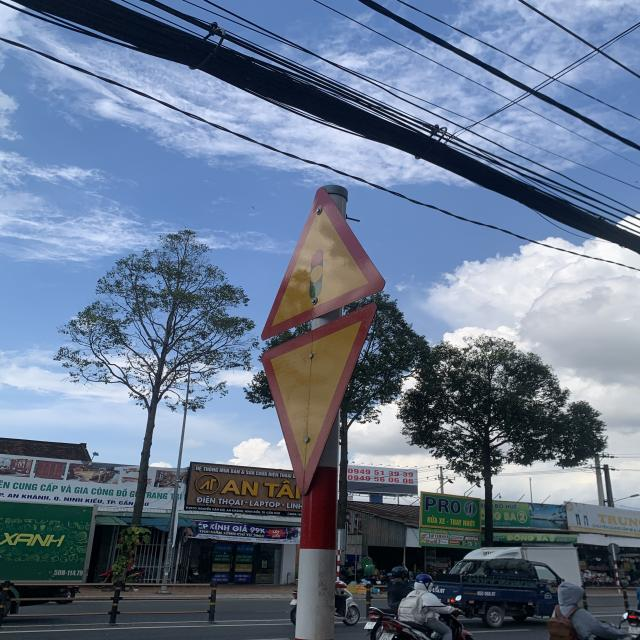Duong_Co_Go_Giam_Toc: (257, 188, 385, 340)
Gioi_Han_Toc_Do_25: (263, 306, 384, 498)
